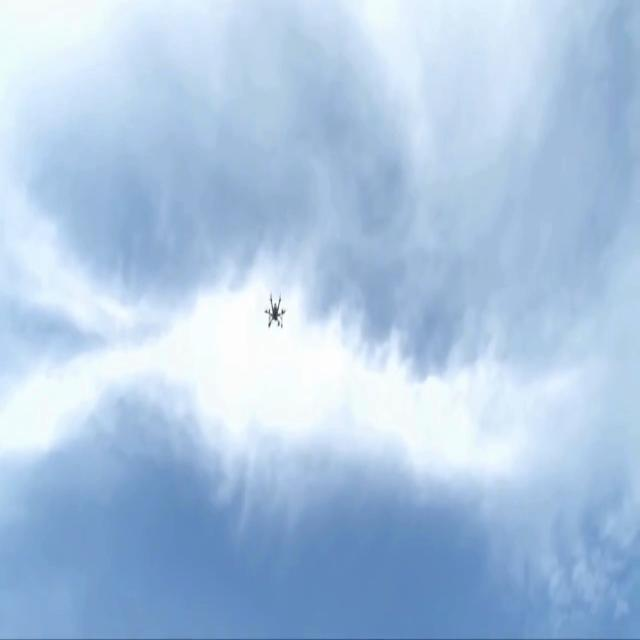drone: (264, 292, 286, 328)
